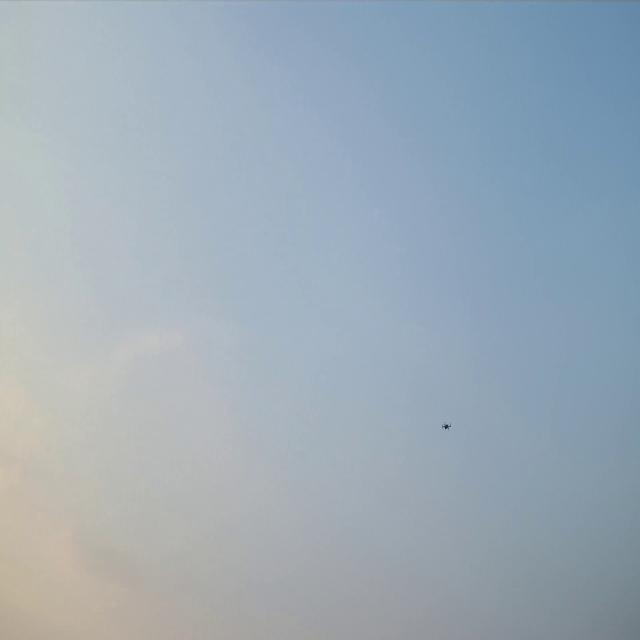UAV: (441, 420, 451, 431)
